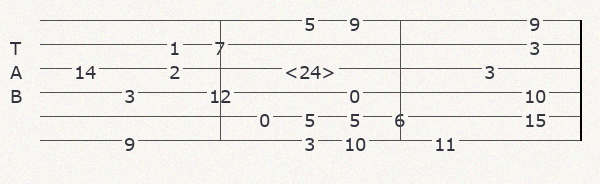0: (259, 108, 274, 125), (349, 84, 364, 101)
1: (169, 36, 184, 53)
10: (344, 132, 370, 149), (524, 84, 550, 101)
11: (434, 132, 460, 149)
12: (209, 84, 235, 101)
14: (74, 60, 100, 77)
15: (524, 108, 550, 125)
2: (169, 60, 184, 77)
3: (124, 84, 139, 101), (304, 132, 319, 149), (484, 60, 499, 77), (529, 36, 544, 53)
5: (304, 108, 319, 125), (304, 12, 319, 29), (349, 108, 364, 125)
6: (394, 108, 409, 125)
7: (214, 36, 229, 53)
9: (124, 132, 139, 149), (349, 12, 364, 29), (529, 12, 544, 29)
harmonic: (284, 60, 340, 77)
